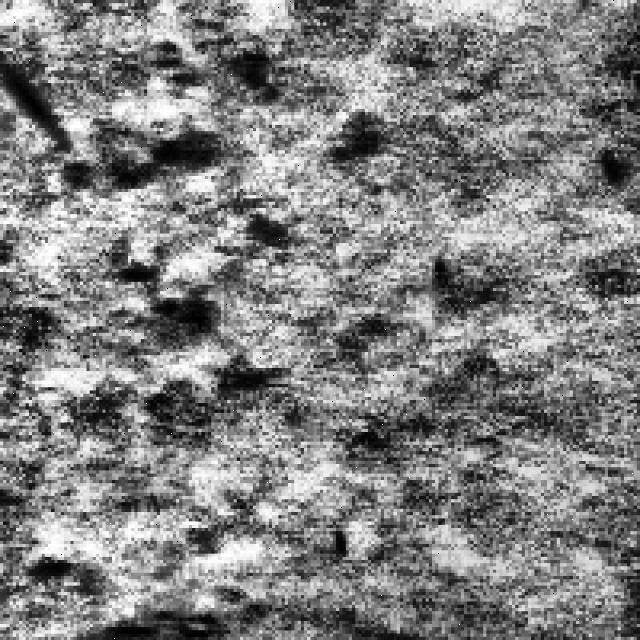Crazing: (64, 22, 240, 182), (112, 243, 269, 403), (26, 524, 250, 634)
